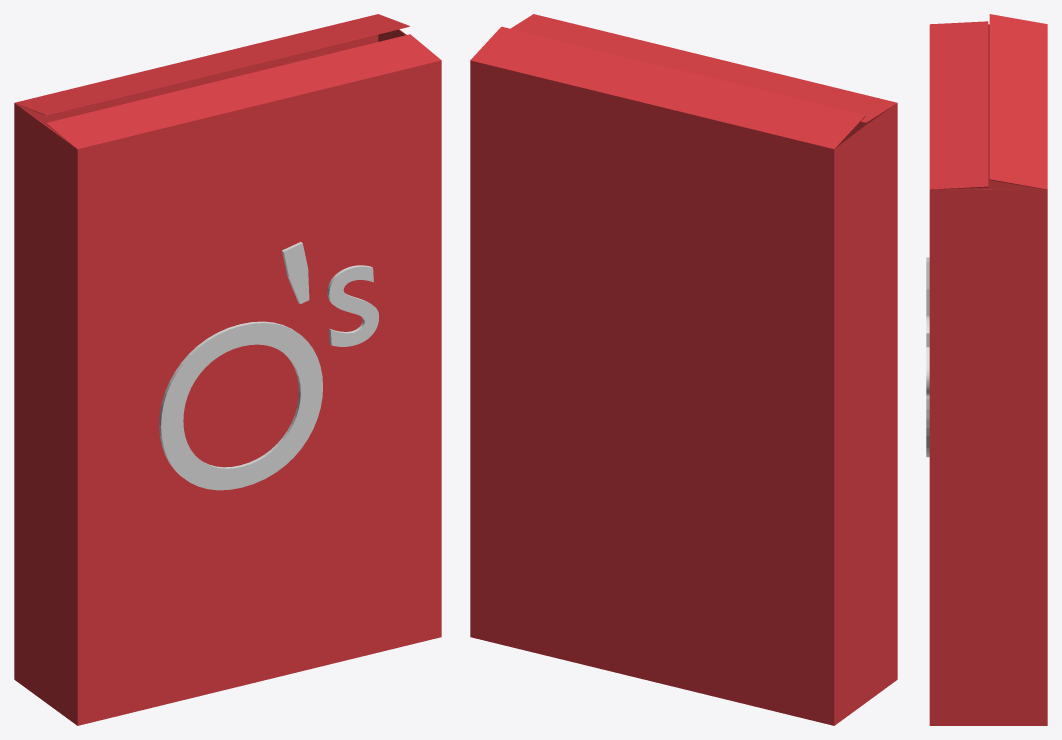
Rendered from BoxOfOs.fbx.
3 views of the same model, side by side, from view 1: azimuth 30°, elevation 25°; view 2: azimuth 150°, elevation 25°; view 3: azimuth 270°, elevation 25° (orthographic). The views are drawn at different scales.
Visible parts, largest first — view 1: Cube, Text; view 2: Cube; view 3: Cube, Text.
Boxes of the visible parts, bbox=[...] form: Cube: bbox=[14, 14, 441, 725]; Text: bbox=[159, 242, 379, 490]; Cube: bbox=[470, 14, 897, 725]; Cube: bbox=[929, 14, 1047, 725]; Text: bbox=[926, 257, 929, 457].
Bounding box in the file's own units: 398 × 614 × 124.
